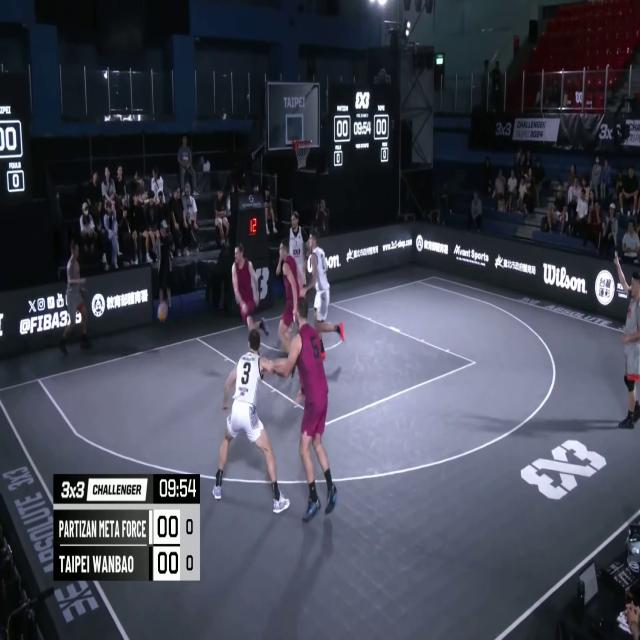ball: (156, 299, 169, 321)
hoop: (293, 138, 314, 170)
player: (264, 292, 336, 527), (213, 329, 288, 512), (306, 227, 345, 355), (276, 240, 304, 388), (230, 243, 268, 345), (287, 214, 309, 314)
